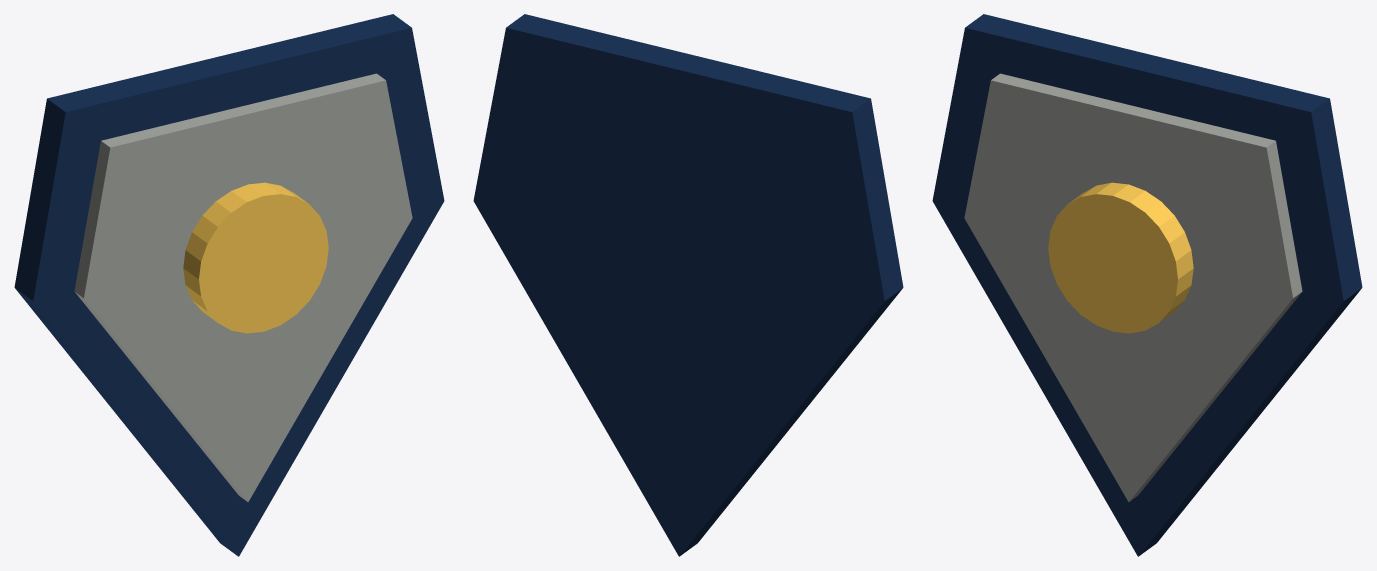
The model's file is shield_02_kite_royal.obj.
3 views of the same model, side by side, from view 1: azimuth 30°, elevation 25°; view 2: azimuth 150°, elevation 25°; view 3: azimuth 330°, elevation 25° (orthographic).
Size of the model in its own units: 0.76 by 0.86 by 0.14.
